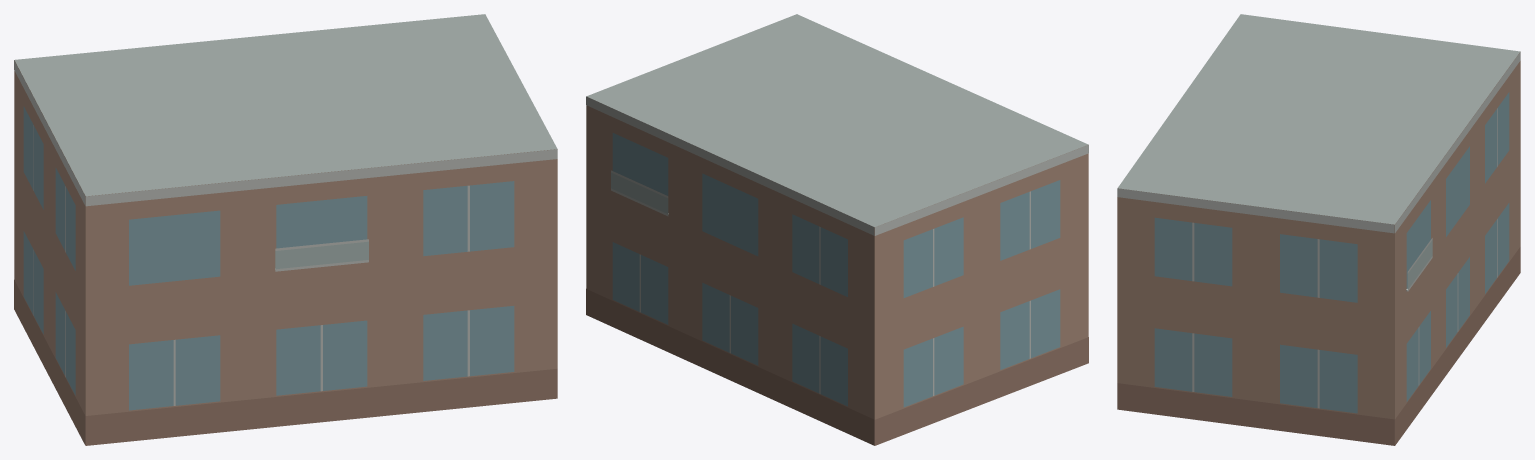
File: survey-upis-32672929.glb
3 views of the same model, side by side, from view 1: azimuth 30°, elevation 25°; view 2: azimuth 150°, elevation 25°; view 3: azimuth 270°, elevation 25° (orthographic). The views are drawn at different scales.
Visible parts, largest first — view 1: survey-upis-32672929.tmp; view 2: survey-upis-32672929.tmp; view 3: survey-upis-32672929.tmp.
Boxes of the visible parts, box(x1,y1,x2,y2) form: survey-upis-32672929.tmp: box(14, 14, 557, 445); survey-upis-32672929.tmp: box(586, 14, 1088, 445); survey-upis-32672929.tmp: box(1117, 14, 1520, 445).
Bounding box in the file's own units: 12.46 × 6.1 × 10.08.
